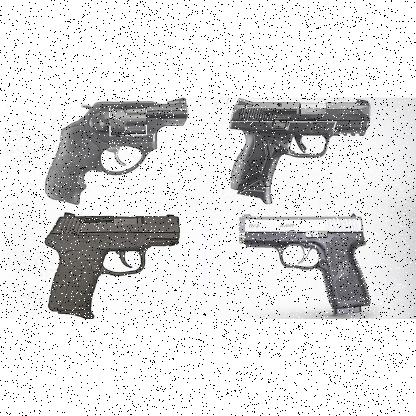gun: (43, 97, 188, 209), (228, 99, 372, 201), (43, 212, 182, 317), (237, 213, 371, 315)
